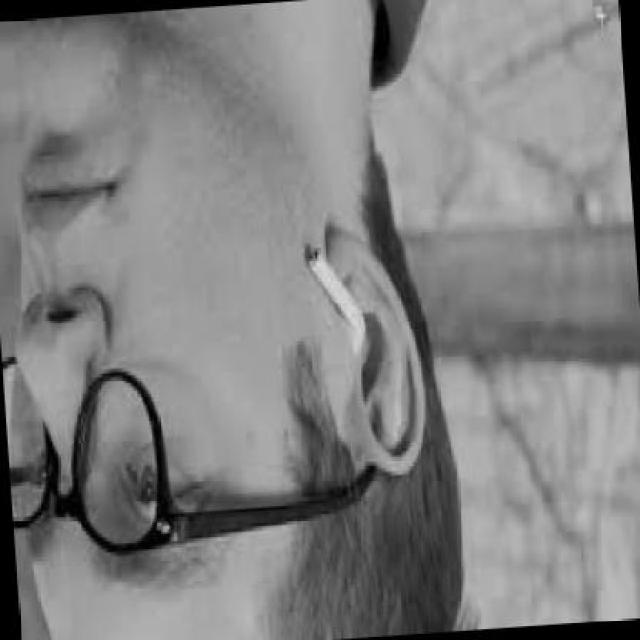earphone: (304, 239, 389, 368)
